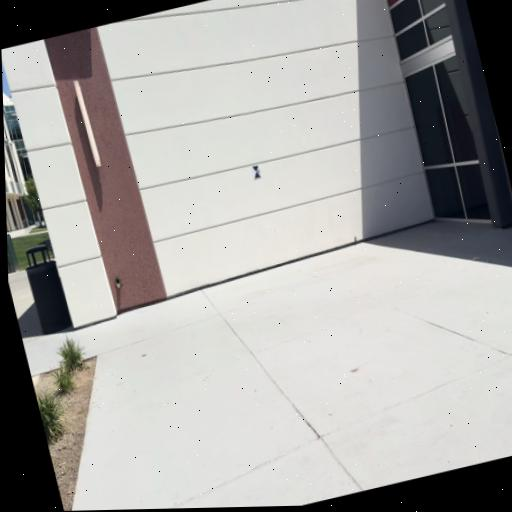target0: (252, 164, 261, 179)
